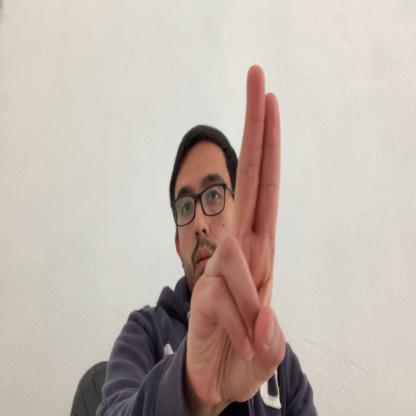U: (188, 63, 287, 402)
